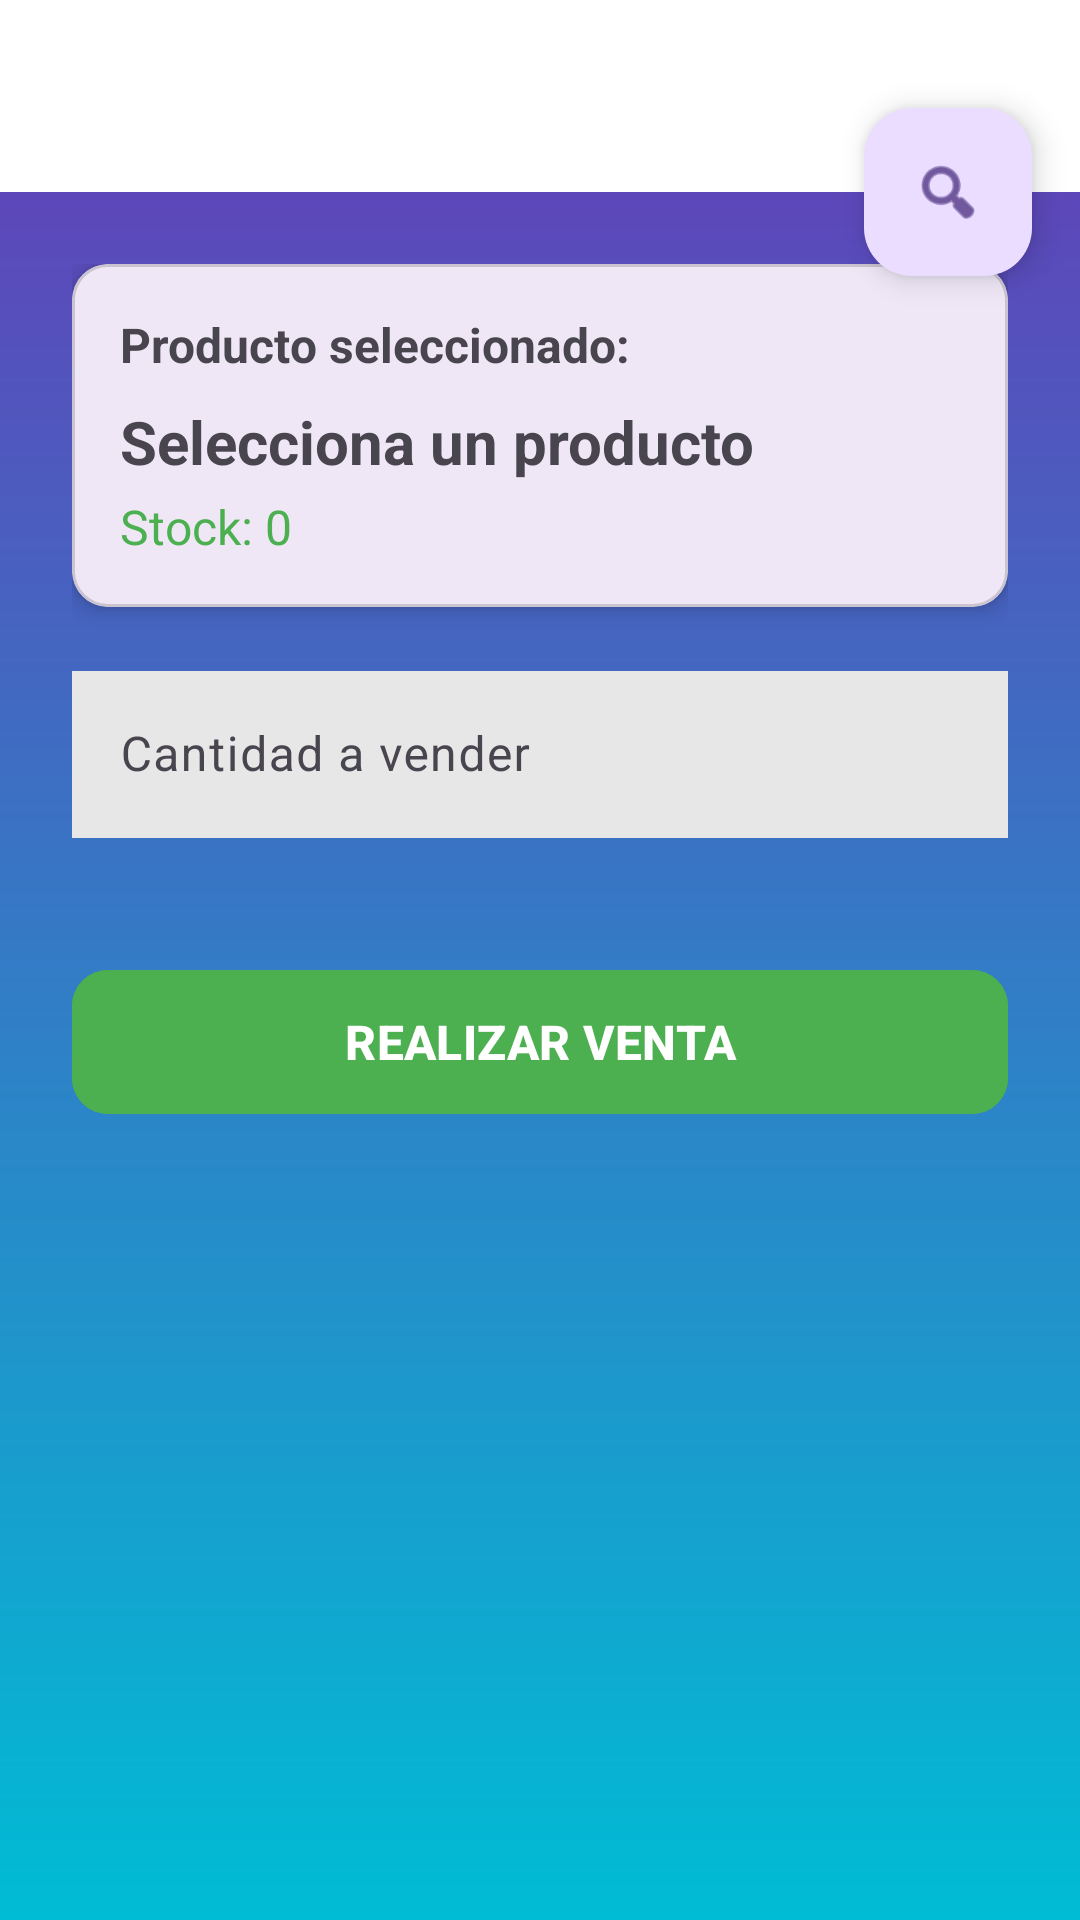

Named icons in this screenshot (1080w x 1920h) and their centers, point (x, y):
search: point (948, 192)
